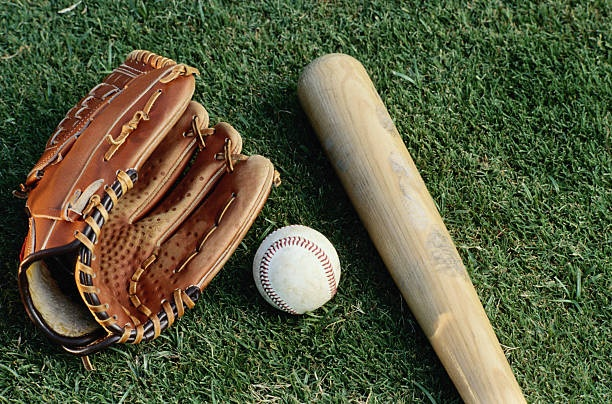bita: (302, 53, 526, 404)
